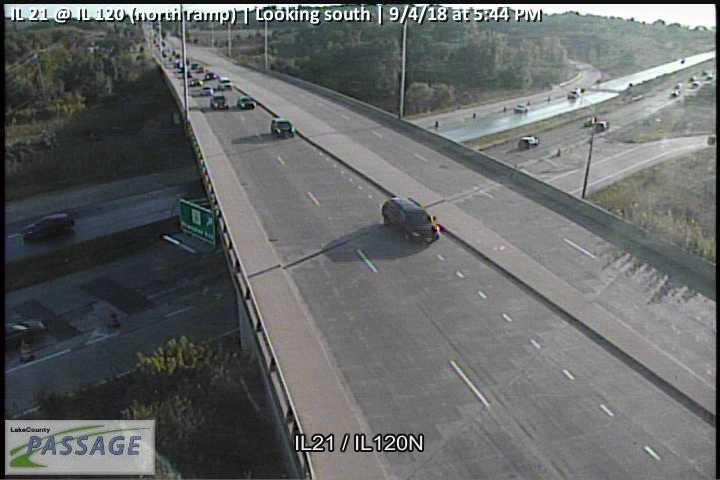SUV: (381, 196, 440, 242), (21, 213, 75, 241), (271, 118, 294, 139), (517, 135, 539, 150), (211, 94, 228, 111), (237, 96, 255, 110), (217, 77, 232, 91)
Sedan: (200, 84, 214, 95)
